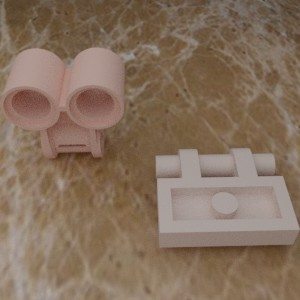lego: (155, 148, 300, 247), (0, 47, 124, 158)
